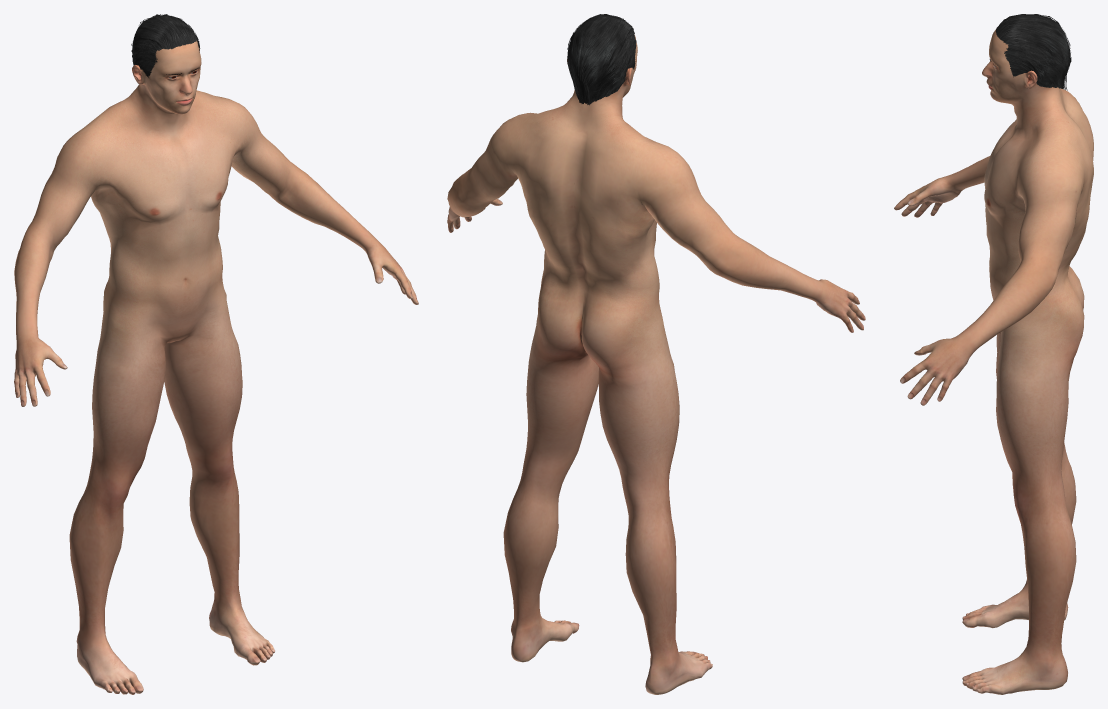
File: reference.obj
3 views of the same model, side by side, from view 1: azimuth 30°, elevation 25°; view 2: azimuth 150°, elevation 25°; view 3: azimuth 270°, elevation 25° (orthographic).
Visible parts, largest first — view 1: base.obj, short04.obj; view 2: base.obj, short04.obj; view 3: base.obj, short04.obj.
Part boxes in pixels (box(x1,y1,x2,y2)): base.obj: box(14, 40, 418, 694); short04.obj: box(131, 14, 200, 77); base.obj: box(447, 35, 865, 694); short04.obj: box(567, 14, 636, 105); base.obj: box(894, 29, 1093, 694); short04.obj: box(995, 14, 1071, 90).
Size of the model in its own units: 1.24 by 1.9 by 0.5391.
4 materials, 4 textured.
